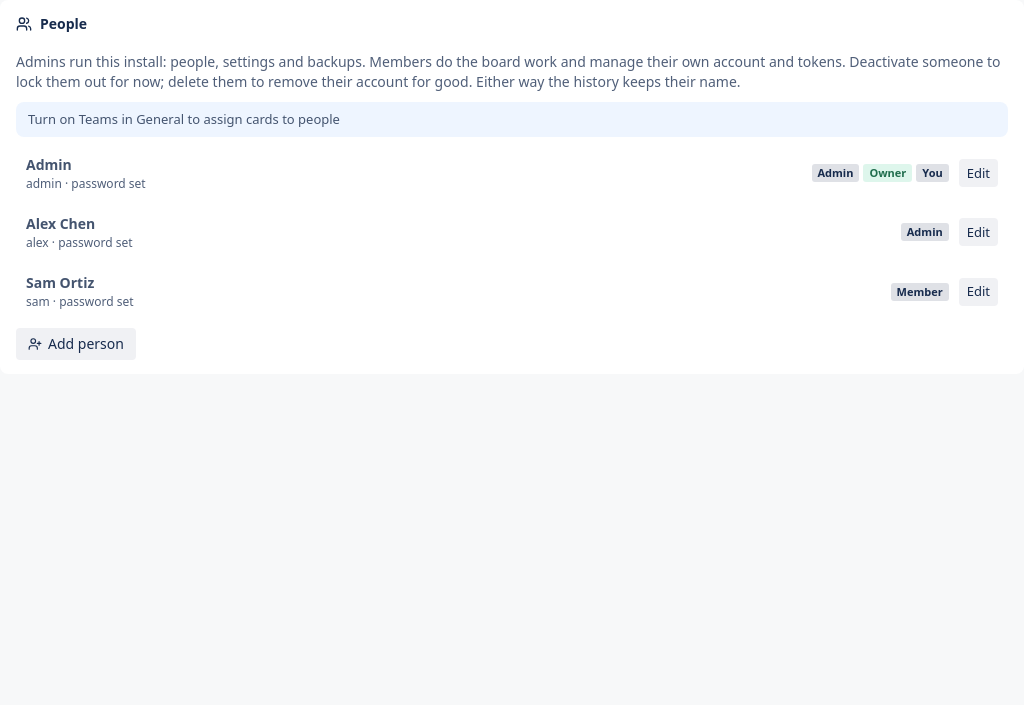
Test: PeopleSection › offers no tag restriction for admins and the owner
The width and height of the screenshot is (1024, 705).
Click the button "Edit" next to "You": (978, 173) [959,159,998,187]
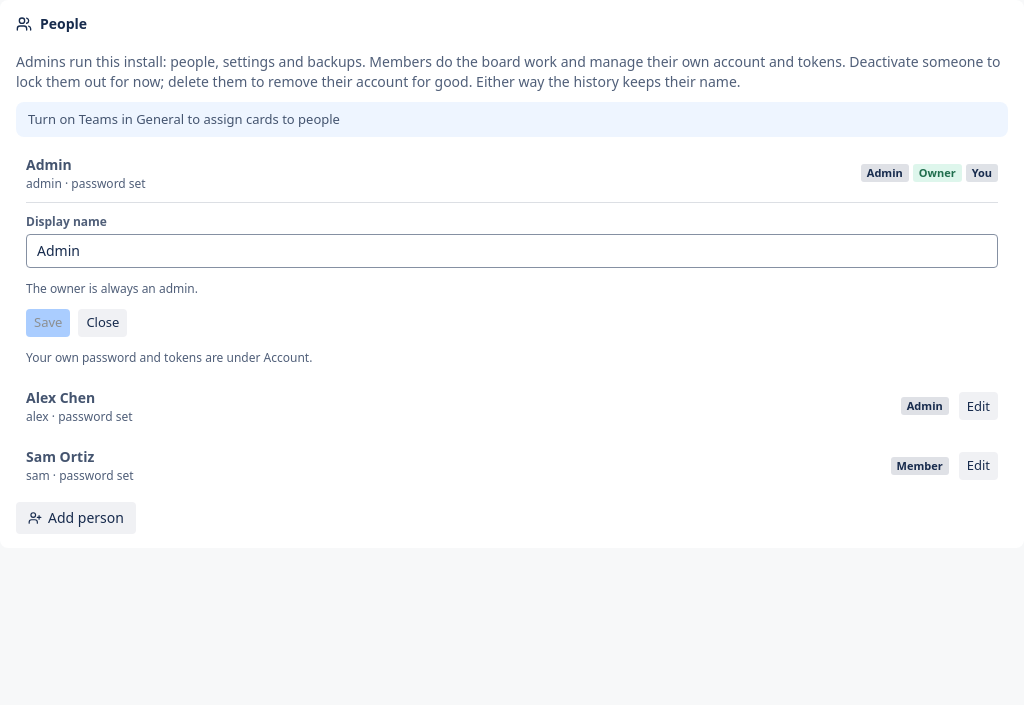
expect the field labelled "Restrict to tags" is not shown: met
Click the button "Close": (103, 323) [78,309,127,337]
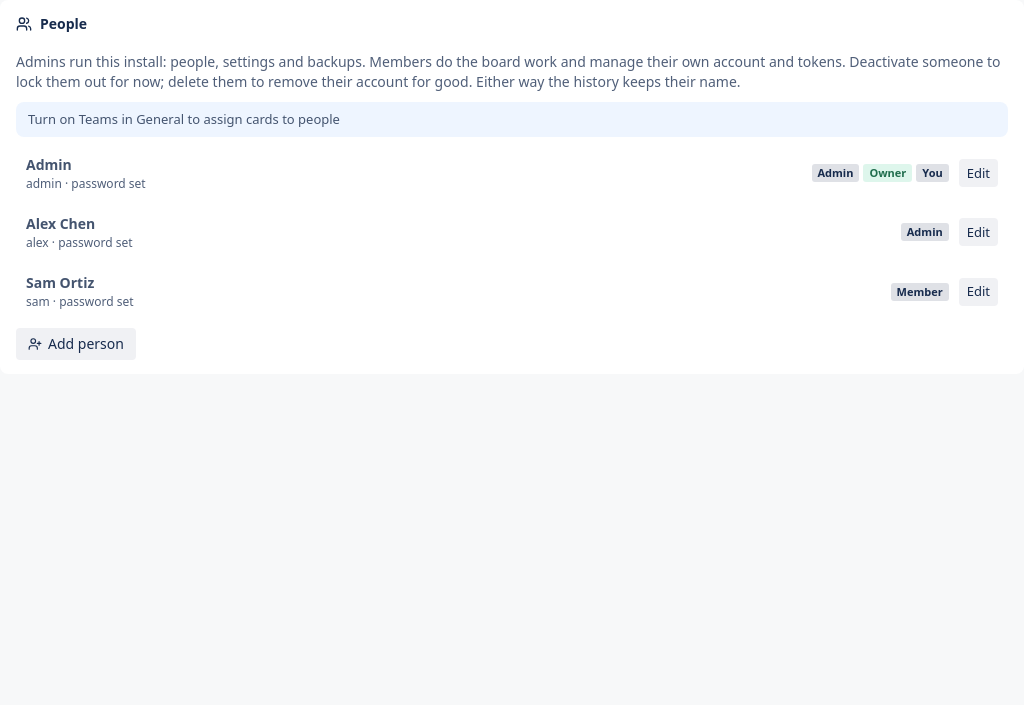
Click the button "Edit" in the row of "Alex Chen": (978, 232) [959,218,998,246]
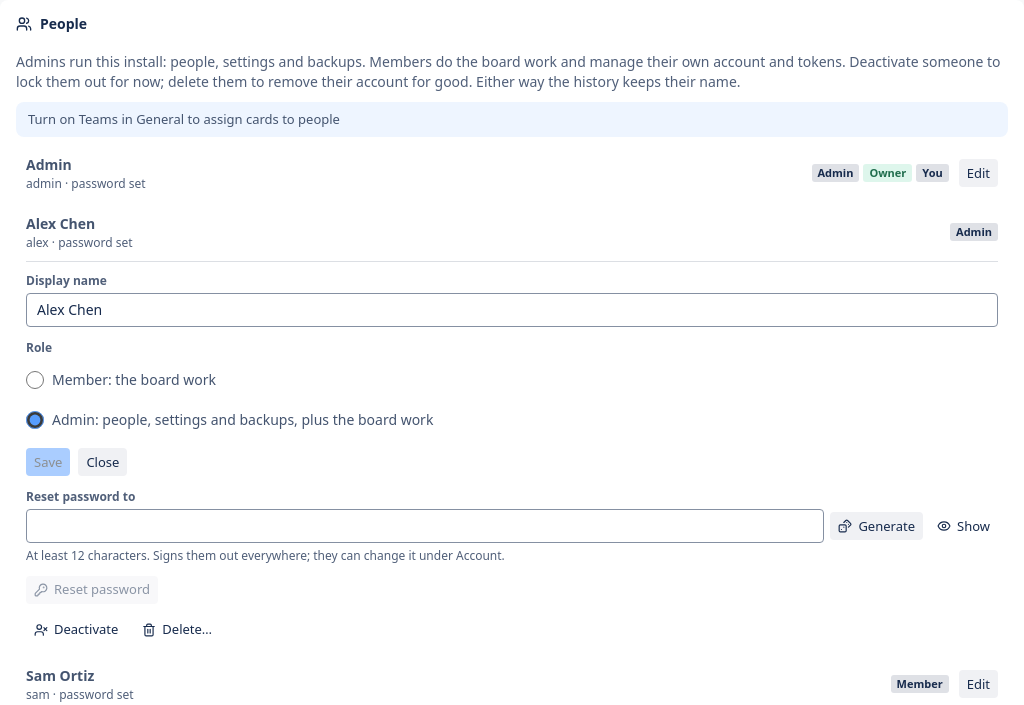
expect the field labelled "Restrict to tags" is not shown: met
Click the button "Close": (103, 462) [78,448,127,476]
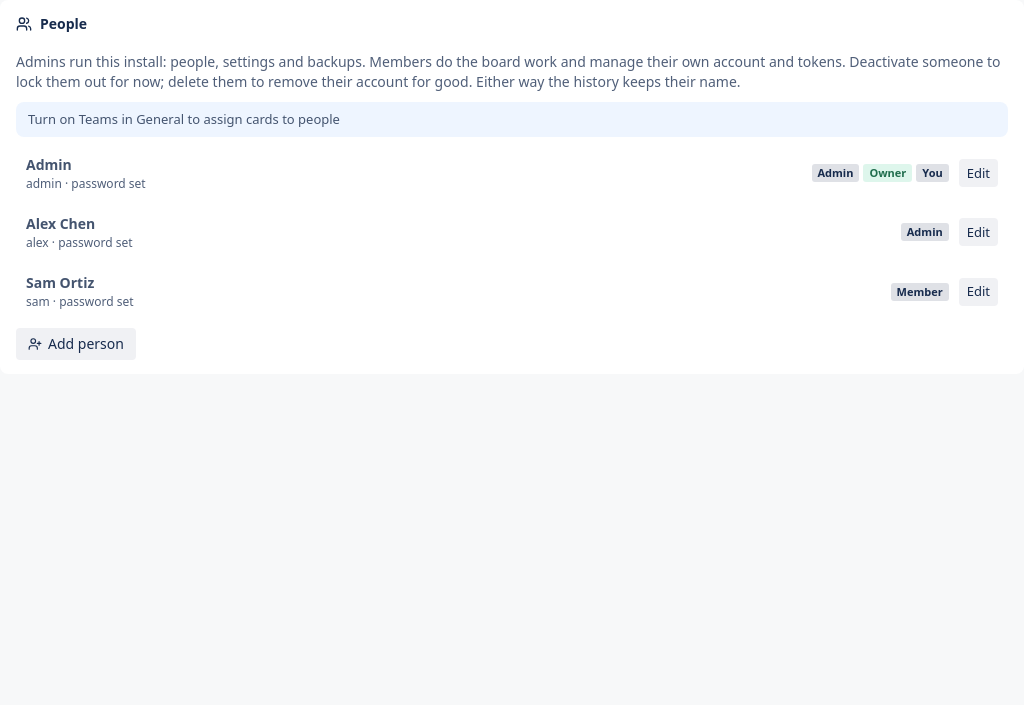
Click the button "Edit" in the row of "Sam Ortiz": (978, 292) [959,278,998,306]
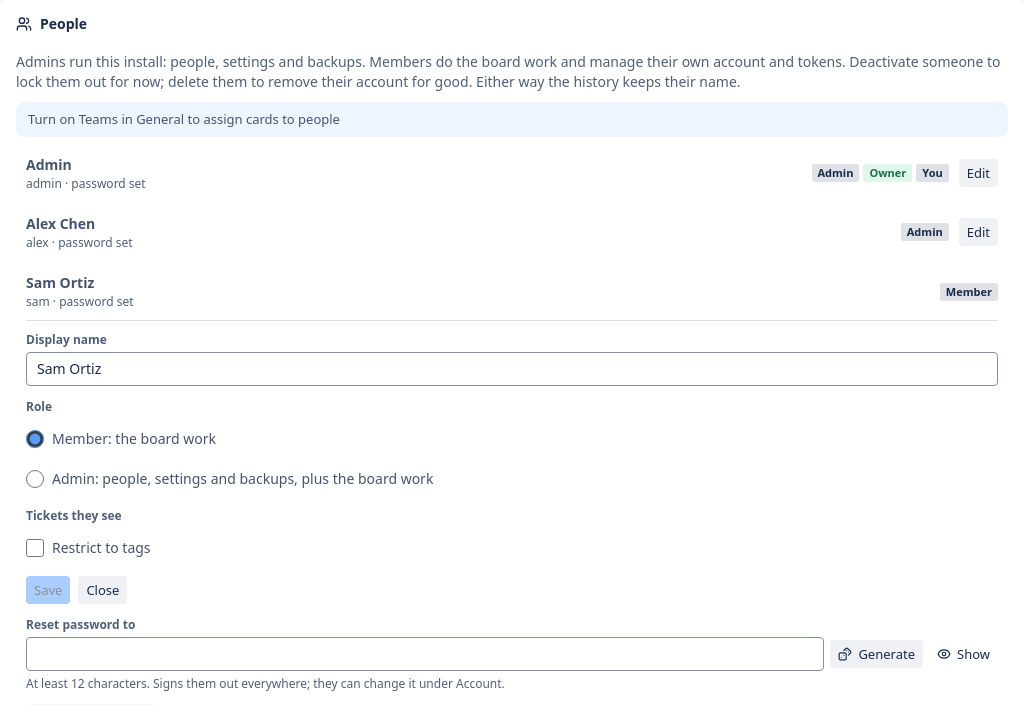
expect the checkbox labelled "Restrict to tags" is shown: met, box [26,539,44,557]
Click the radio button labelled "Admin: people, settings and backups, plus the board work": (35, 479) [26,470,44,488]
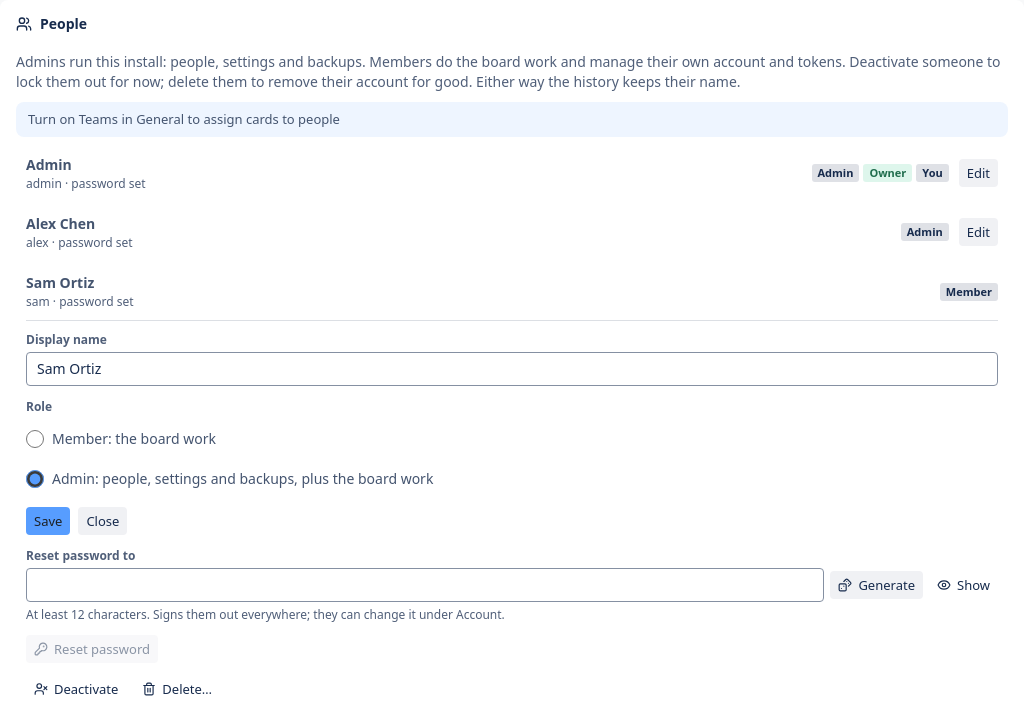
expect the text labelled "Restrict to tags" is gone: met
